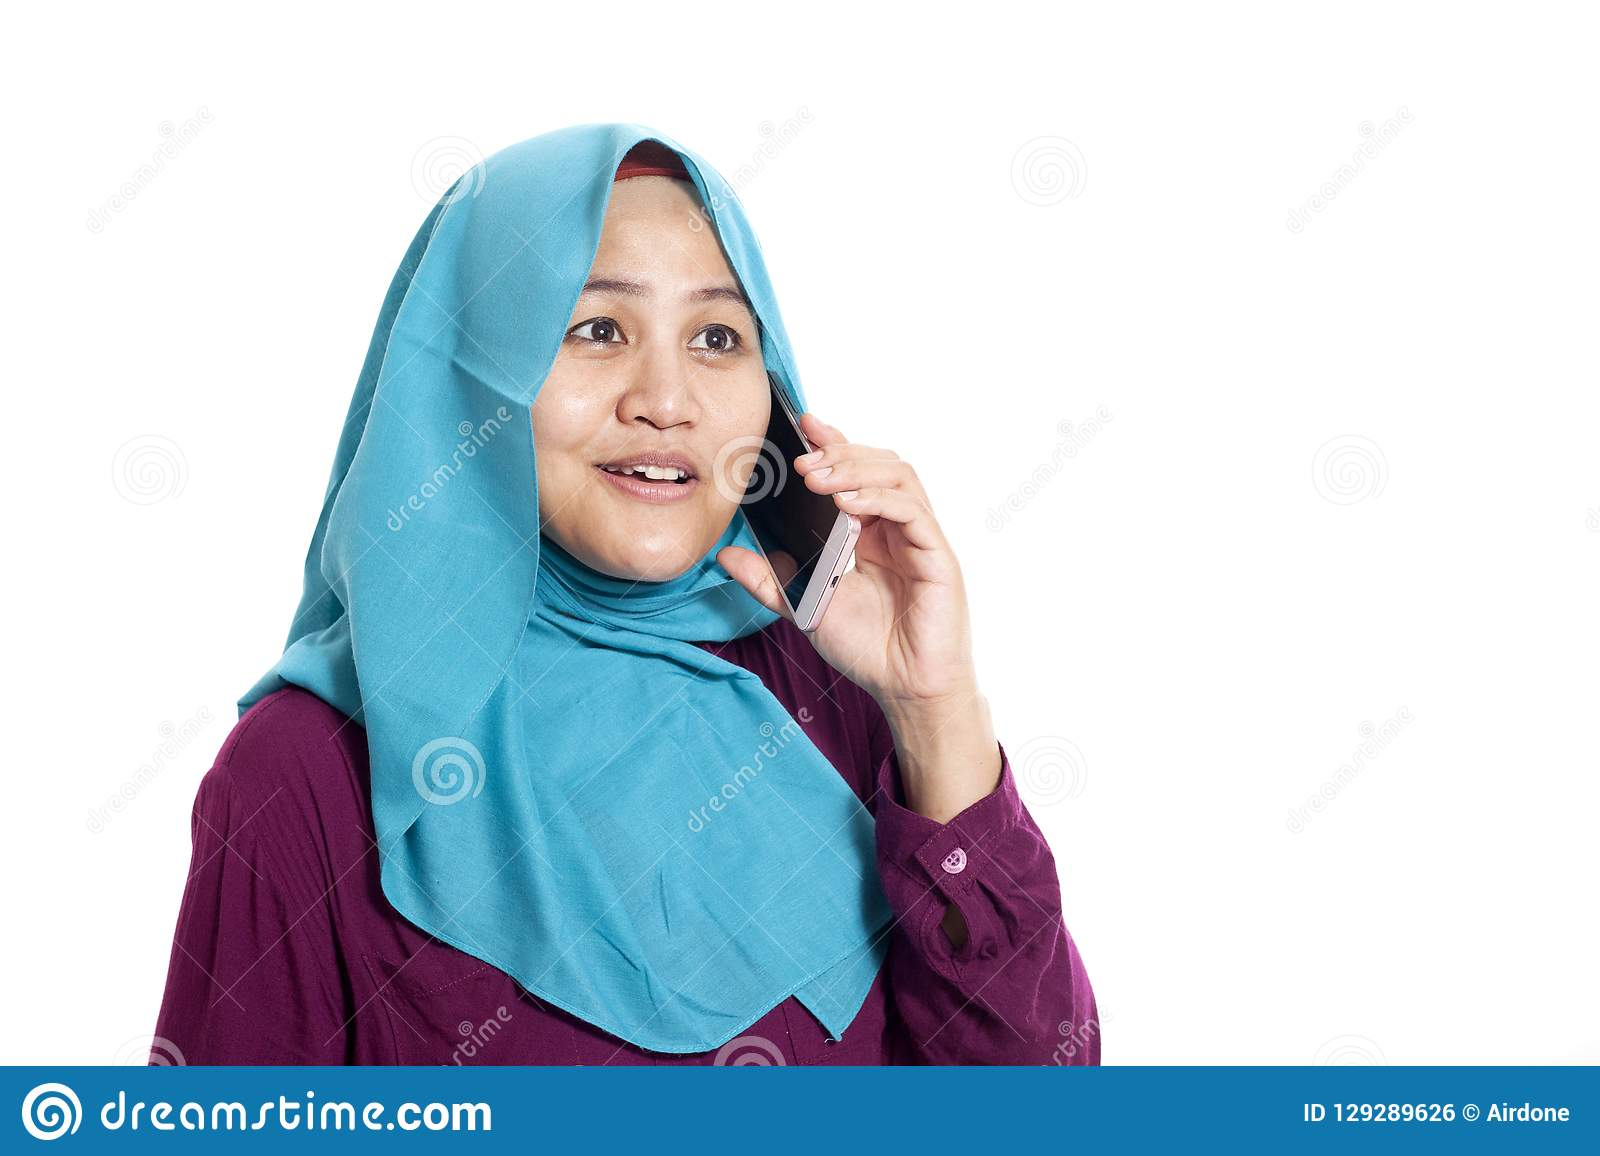phone: (740, 374, 870, 641)
talk: (543, 269, 974, 718)
